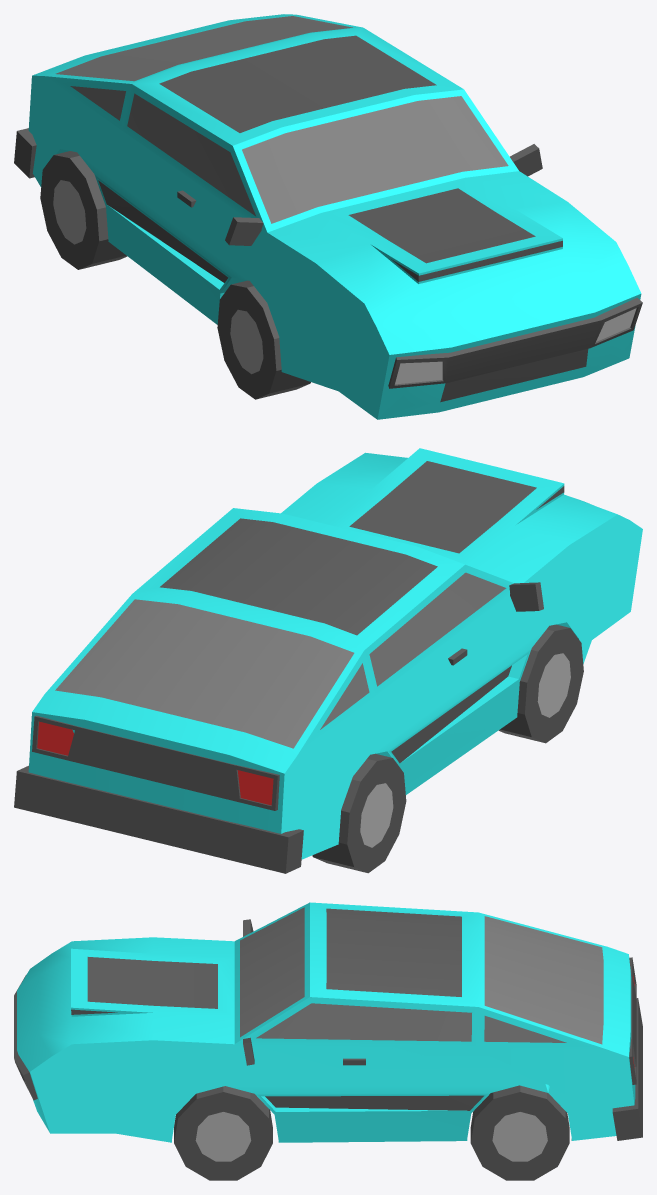
Rendered from SM_Car_06_01.FBX.
3 views of the same model, one above another, from view 1: azimuth 30°, elevation 25°; view 2: azimuth 150°, elevation 25°; view 3: azimuth 270°, elevation 25° (orthographic). The views are drawn at different scales.
Visible parts, largest first — view 1: SM_Car_06_01, SM_Wheel_RBack001, SM_Wheel_LFront001; view 2: SM_Car_06_01, SM_Wheel_RBack001, SM_Wheel_LFront001; view 3: SM_Car_06_01, SM_Wheel_LBack001, SM_Wheel_LFront002.
Boxes of the visible parts, x1,y1,x2,y2 form: SM_Car_06_01: (14,14,642,419); SM_Wheel_RBack001: (40,151,127,269); SM_Wheel_LFront001: (217,280,310,399); SM_Car_06_01: (14,448,642,873); SM_Wheel_RBack001: (312,753,406,873); SM_Wheel_LFront001: (498,624,583,743); SM_Car_06_01: (14,902,642,1142); SM_Wheel_LBack001: (470,1085,569,1180); SM_Wheel_LFront002: (174,1086,272,1180).
Bounding box in the file's own units: 1.52 × 0.9605 × 3.15.
Materials: 1 (1 with a texture image).
